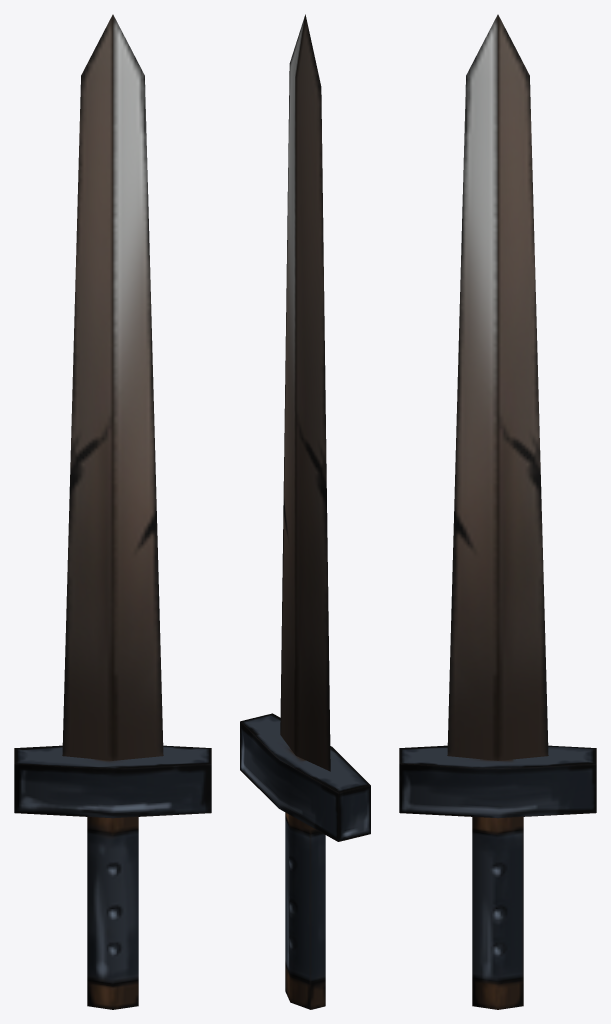
The model's file is WP_2H_Claymore02.FBX.
The picture shows the model from 3 angles, left to right: view 1: azimuth 90°, elevation 25°; view 2: azimuth 210°, elevation 25°; view 3: azimuth 270°, elevation 25°; orthographic projection.
Parts seen in each view (by area): view 1: WP_2H_Claymore02; view 2: WP_2H_Claymore02; view 3: WP_2H_Claymore02.
Boxes of the visible parts, x1,y1,x2,y2 form: WP_2H_Claymore02: (14,14,211,1009); WP_2H_Claymore02: (240,14,370,1009); WP_2H_Claymore02: (399,14,596,1009).
Size of the model in its own units: 6.04 by 107 by 19.26.
Materials: 1 (1 with a texture image).
